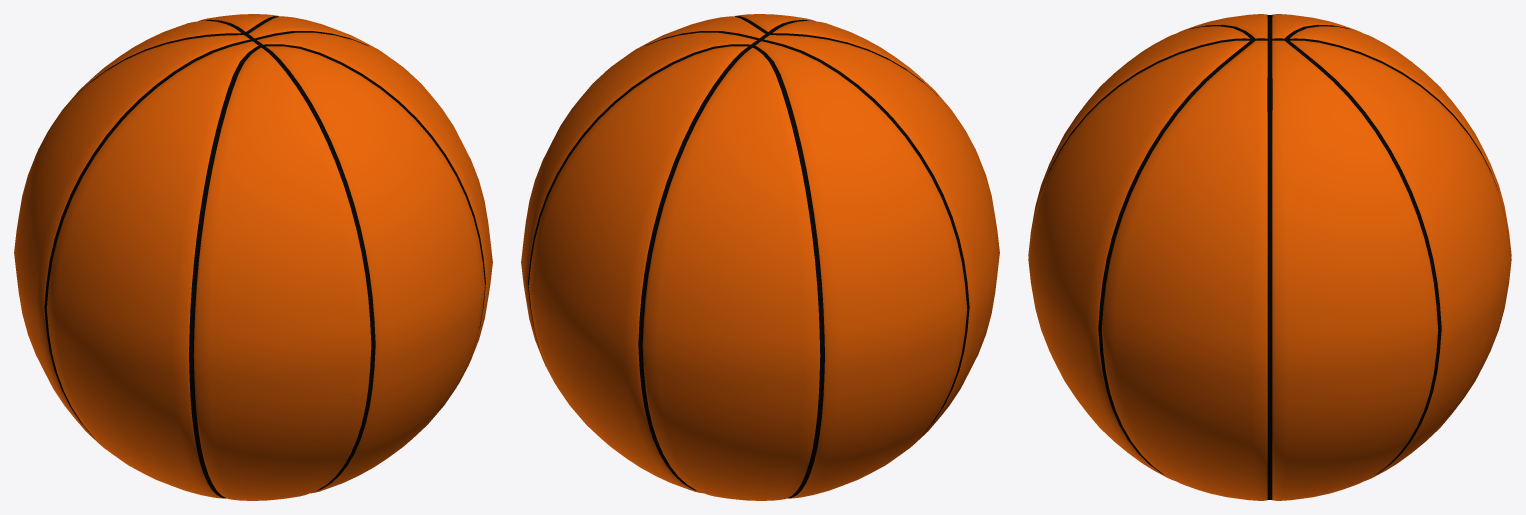
Rendered from basketball_v2.fbx.
The picture shows the model from 3 angles, left to right: view 1: azimuth 30°, elevation 25°; view 2: azimuth 150°, elevation 25°; view 3: azimuth 270°, elevation 25°; orthographic projection.
Parts seen in each view (by area): view 1: Sphere; view 2: Sphere; view 3: Sphere.
Part boxes in pixels (bbox=[...]): Sphere: bbox=[14, 14, 492, 500]; Sphere: bbox=[521, 14, 999, 500]; Sphere: bbox=[1028, 14, 1511, 500].
Size of the model in its own units: 0.3 by 0.3 by 0.3.
